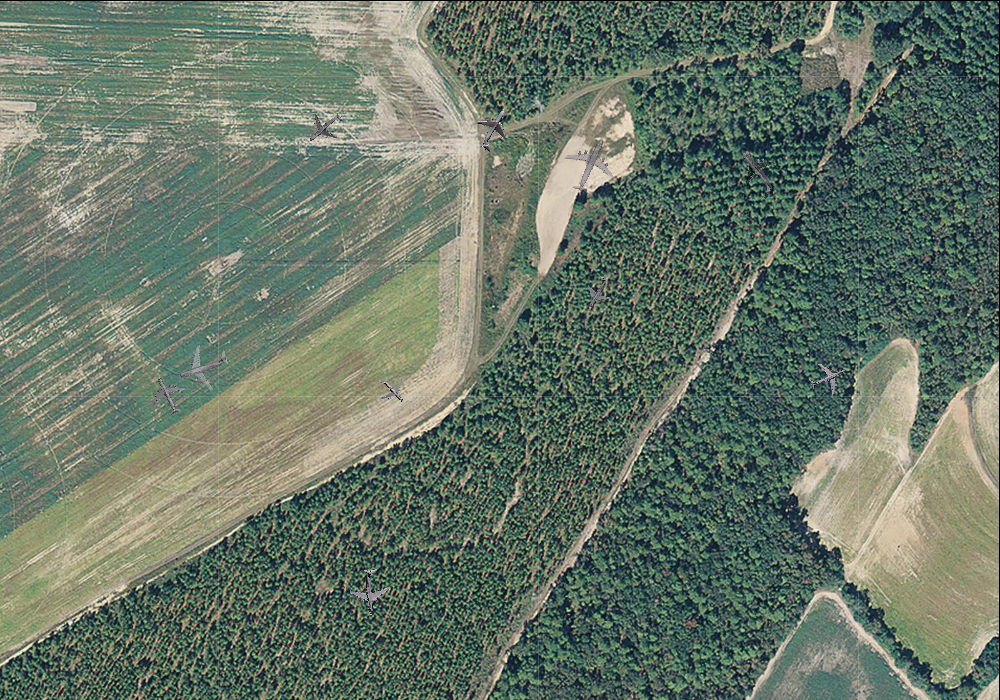plane: (554, 127, 627, 202), (722, 137, 791, 207), (168, 334, 235, 399), (465, 100, 522, 158), (298, 101, 352, 155), (140, 368, 193, 422), (803, 353, 852, 402), (346, 567, 394, 617), (575, 269, 618, 314), (370, 369, 413, 411)
